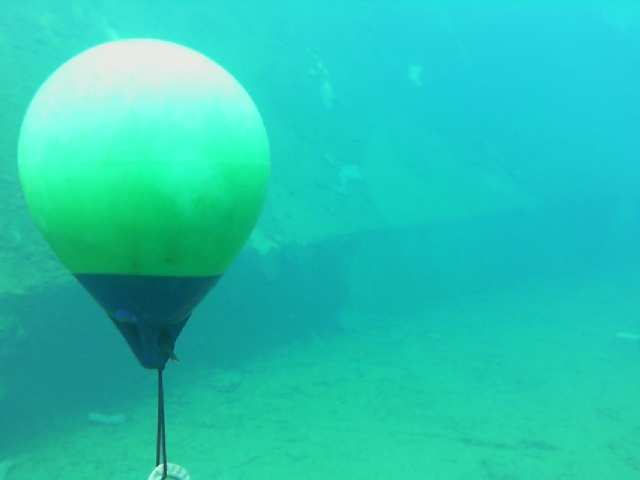buoy_green: (16, 26, 273, 374)
